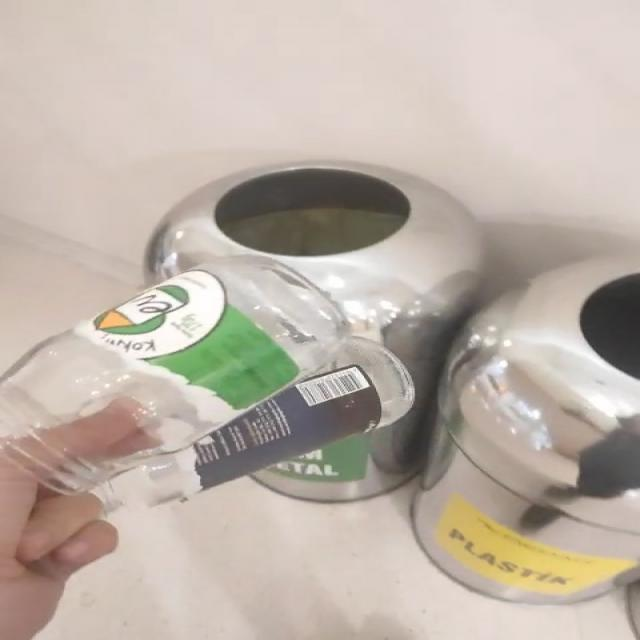Glass: (3, 255, 412, 505)
